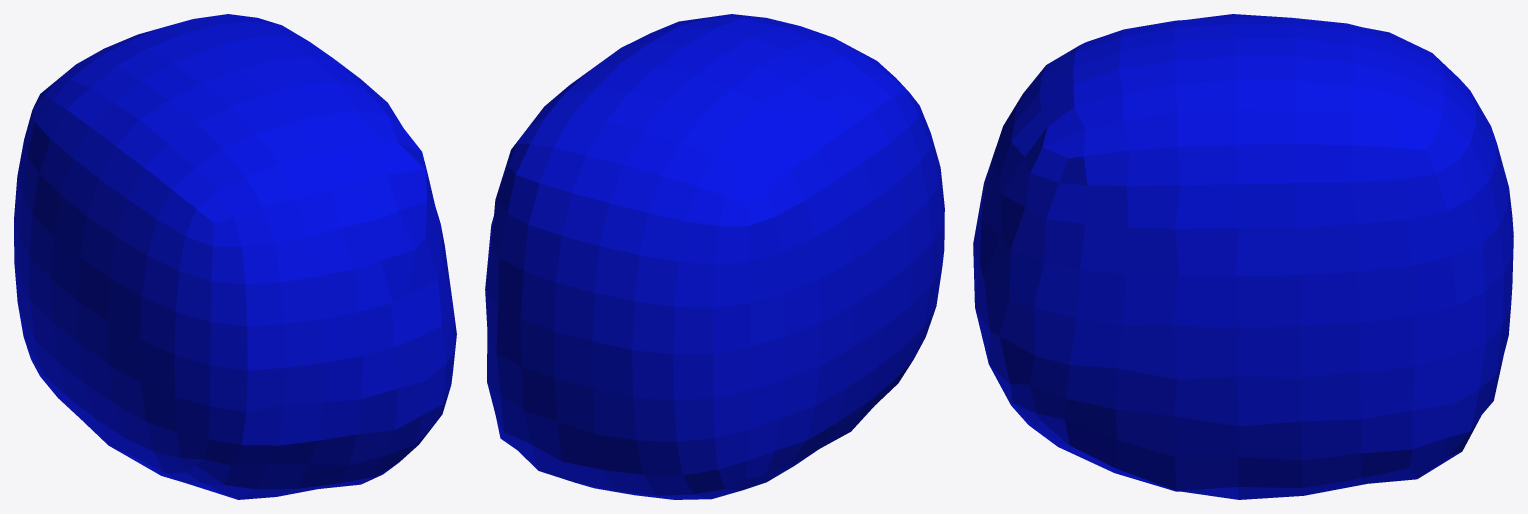
The model's file is demo12.fbx.
3 renders of one model, left to right at view 1: azimuth 30°, elevation 25°; view 2: azimuth 150°, elevation 25°; view 3: azimuth 270°, elevation 25°, orthographic. The views are drawn at different scales.
Visible parts, largest first — view 1: 立方体; view 2: 立方体; view 3: 立方体.
Boxes of the visible parts, box(x1,y1,x2,y2) form: 立方体: box(14, 14, 456, 499); 立方体: box(485, 14, 944, 499); 立方体: box(973, 14, 1513, 499).
Size of the model in its own units: 354 by 409 by 480.
